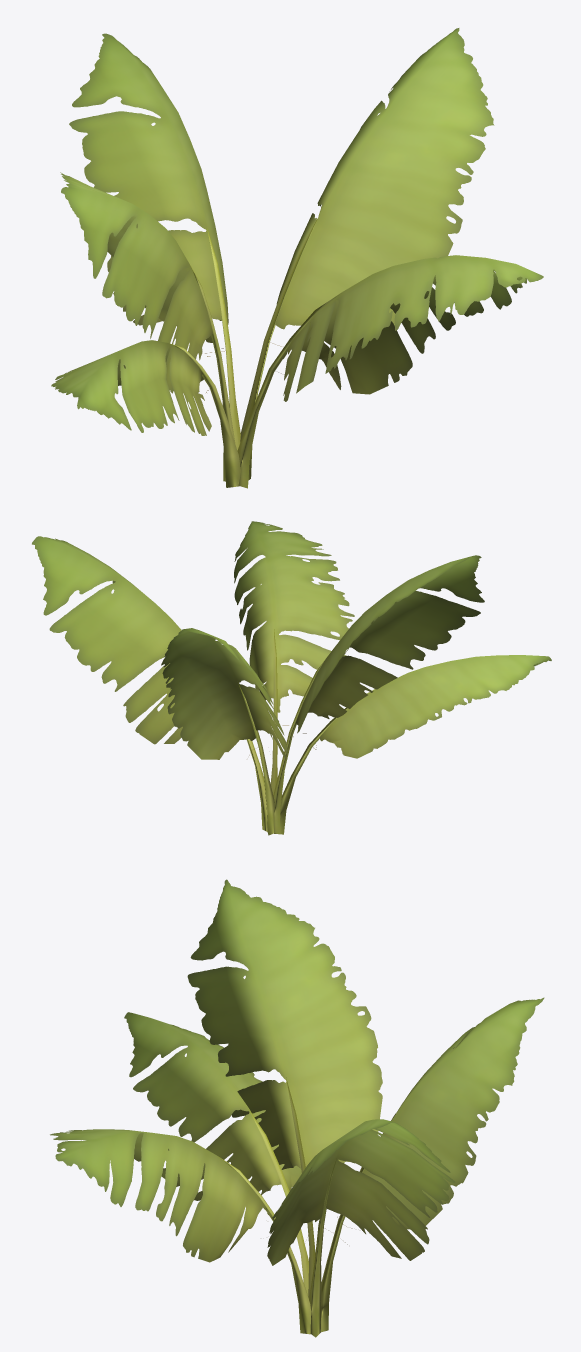
Rendered from banana plant 02.obj.
3 views of the same model, one above another, from view 1: azimuth 30°, elevation 25°; view 2: azimuth 150°, elevation 25°; view 3: azimuth 270°, elevation 25° (orthographic). The views are drawn at different scales.
Visible parts, largest first — view 1: tree; view 2: tree; view 3: tree.
Part boxes in pixels (x1,y1,x2,y2): tree: [51, 28, 543, 488]; tree: [32, 521, 551, 835]; tree: [50, 879, 544, 1337].
Bounding box in the file's own units: 247 × 156 × 216.
